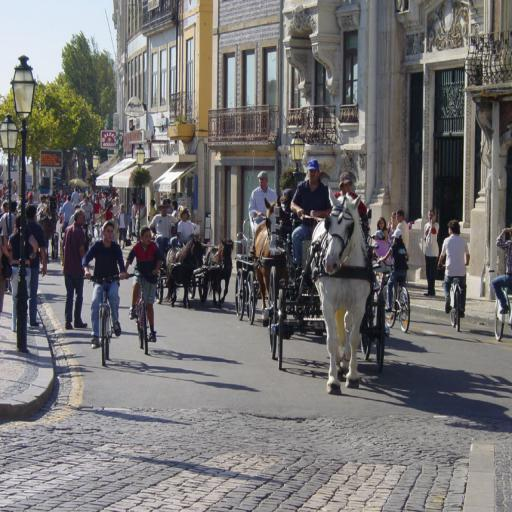horse: (309, 187, 373, 397), (251, 197, 284, 329), (162, 236, 202, 312), (204, 238, 234, 311), (34, 192, 60, 260)
